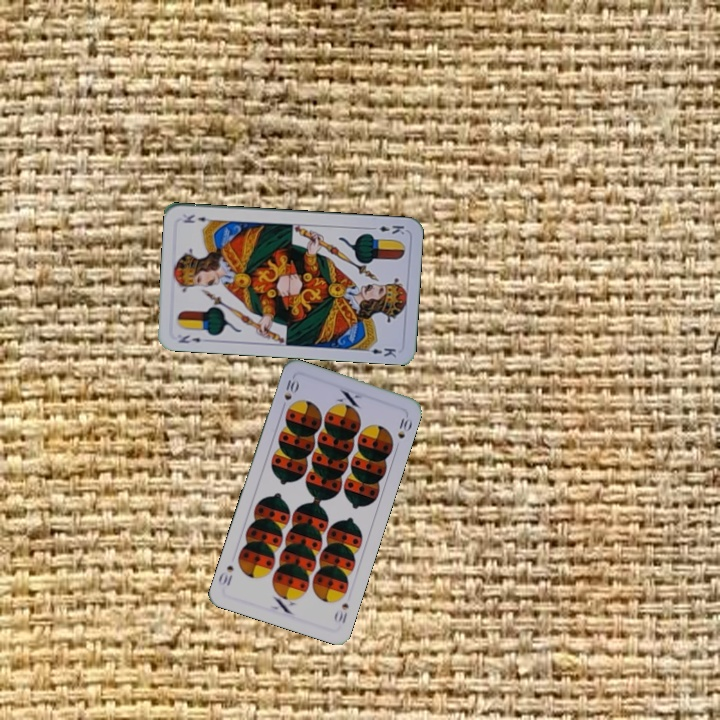EK: (367, 221, 407, 237), (175, 331, 204, 346)
S10: (277, 376, 301, 413), (330, 599, 352, 626)
